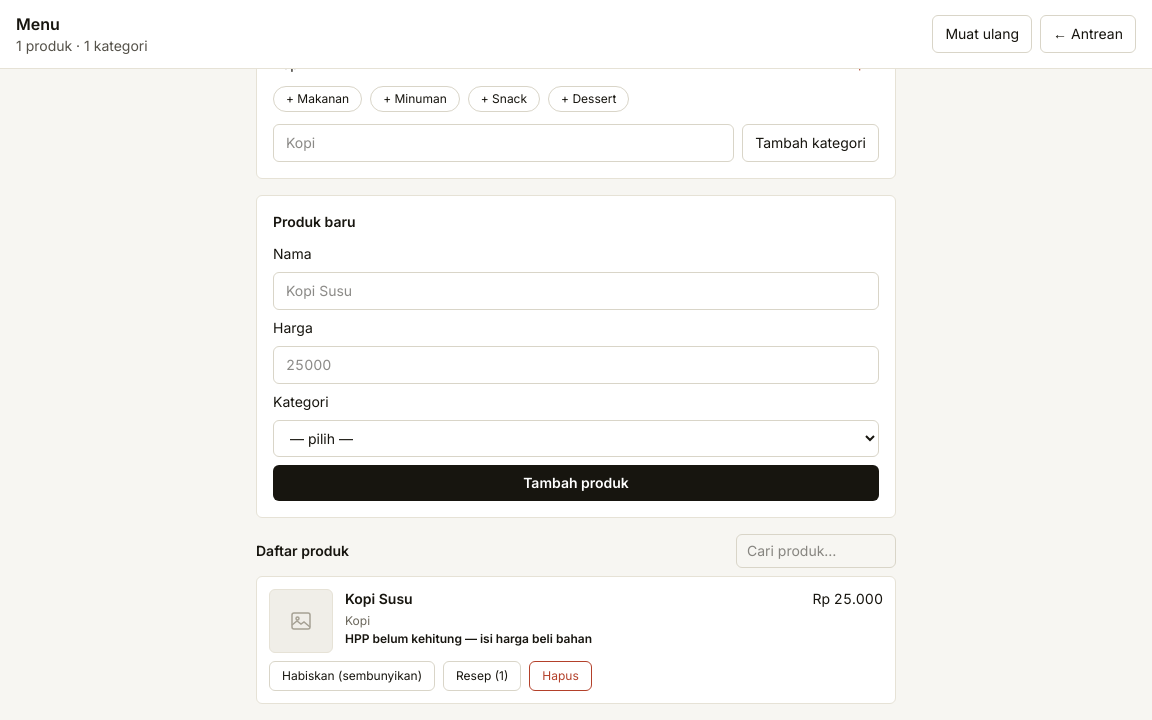
resep › panel tertutup sampai diketuk
The image size is (1152, 720).
(page scrolled)
Check: the text "Kopi Susu" is shown, box [345, 589, 413, 609]
Check: the text "Resep Kopi Susu" is not shown
Click the button with aria-label "Resep Kopi Susu" at (482, 676), box [443, 661, 521, 691]
(page scrolled)
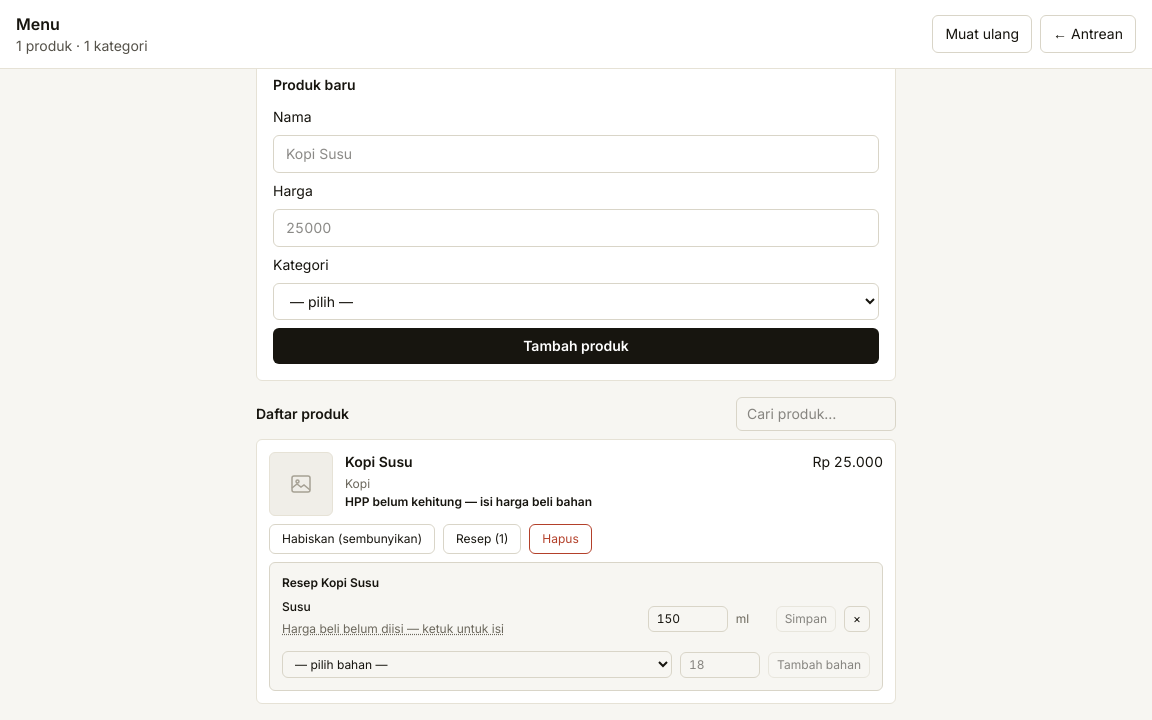
Check: the heading "Resep Kopi Susu" is shown, box [282, 575, 379, 590]
